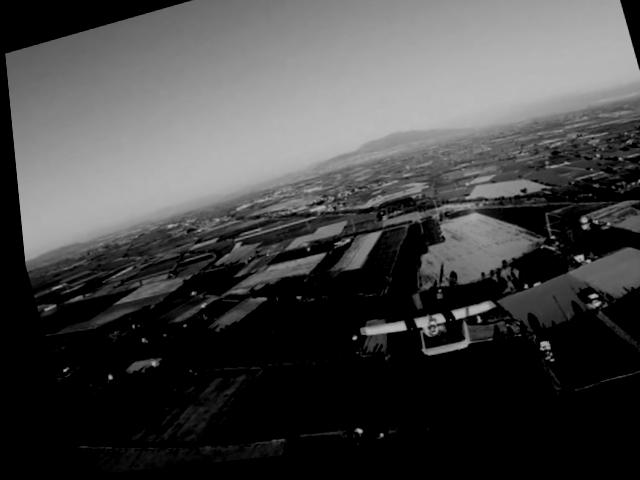hedef: (341, 283, 500, 384)
